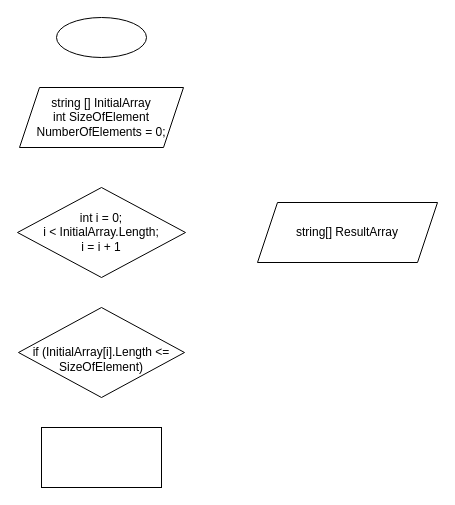
The diagram is 455 pixels wide and 505 high, and some of its shapes have lost their labels. Each missing label, with the box of its shape:
NumberOfElements = NumberOfElements +1: (40, 426, 162, 488)
Start: (56, 16, 146, 58)
